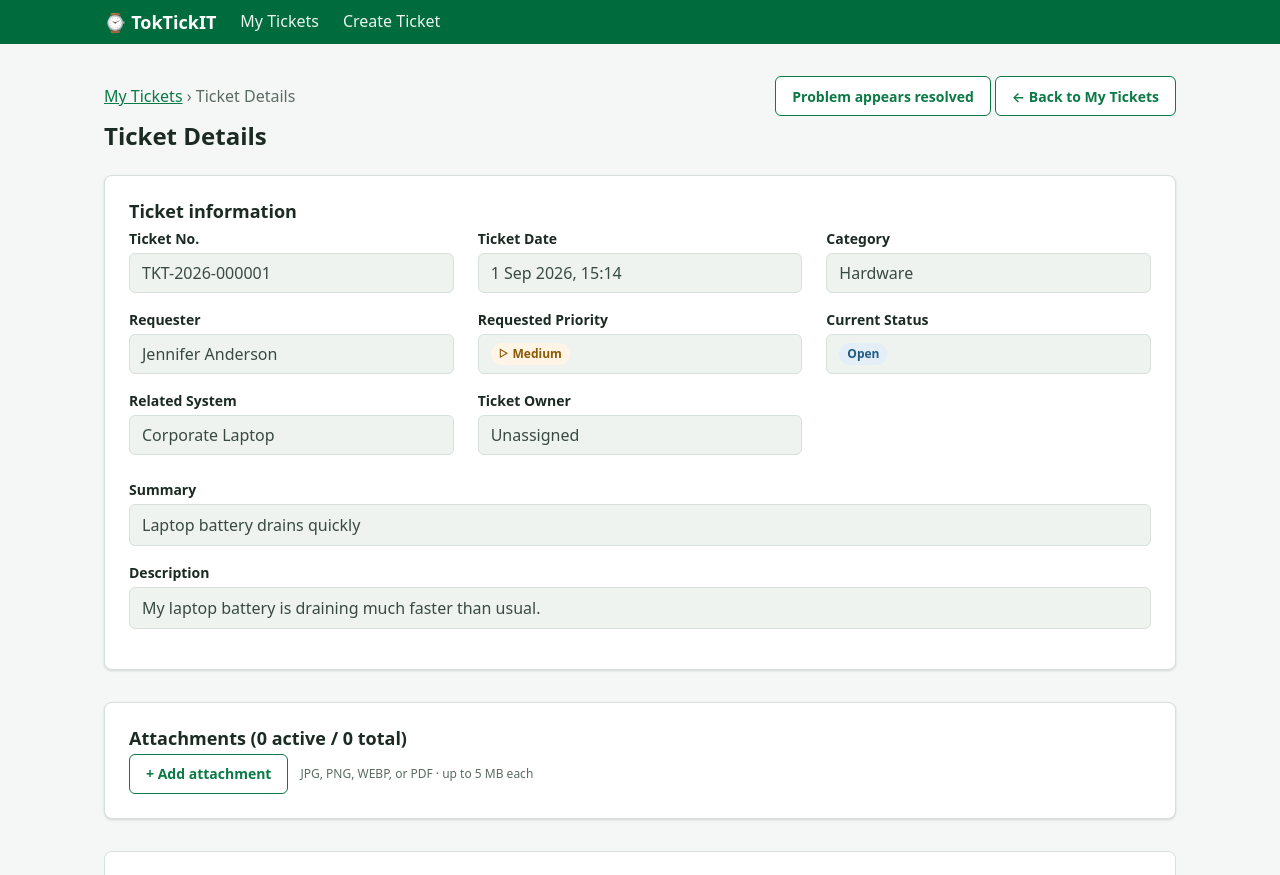
Test case: "Problem Appears Resolved" (ui-spec.md §7) › confirming posts the indication, closes the dialog, and replaces the button with the read-only note — the status badge does not change
The width and height of the screenshot is (1280, 875).
Check: the text "TKT-2026-000001" is shown, box [129,253,454,293]
Click the button "Problem appears resolved". click: x=883, y=96
box: [775,76,991,116]
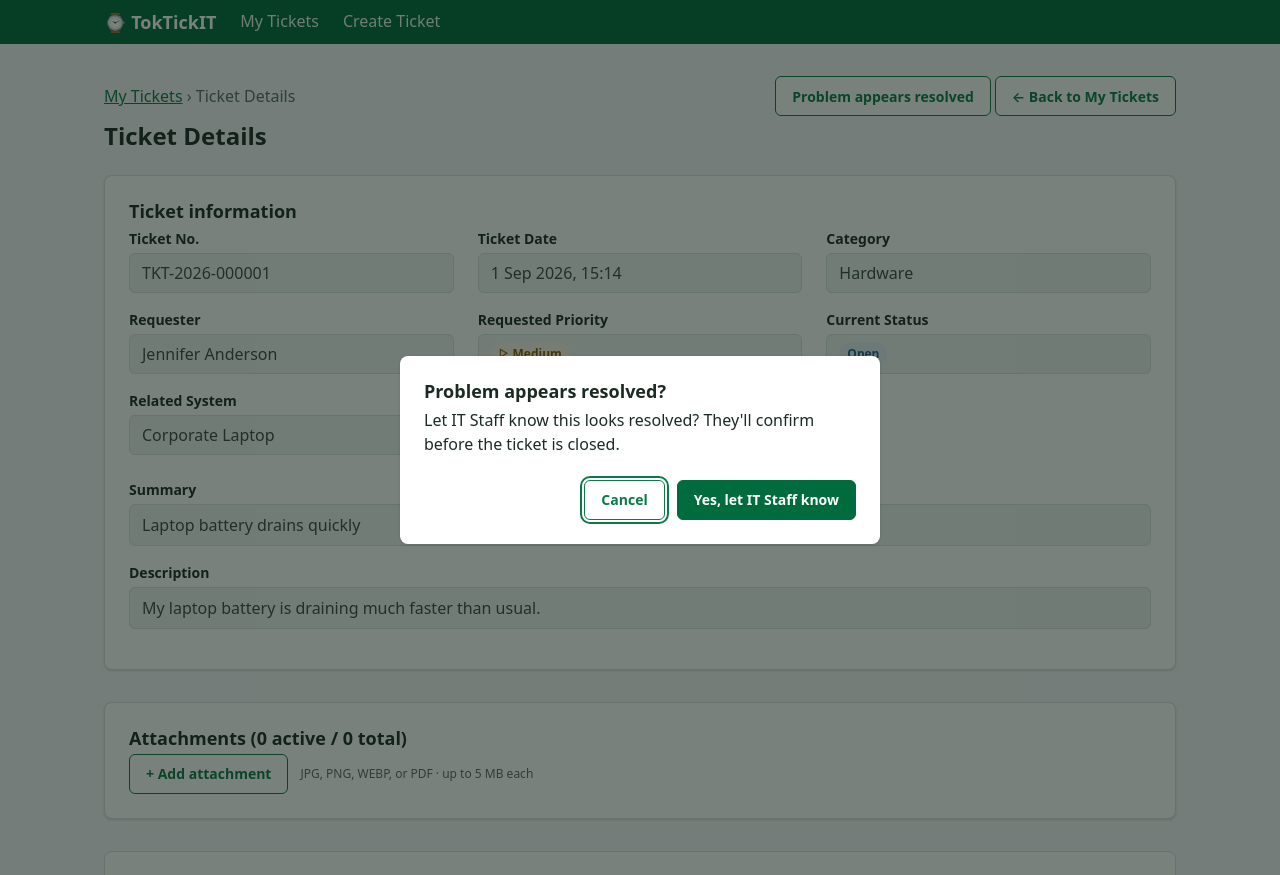
Check: the dialog is shown, box [400,356,880,544]
Click the button "Yes, let IT Staff know". click: x=766, y=500
box: [677,480,856,520]
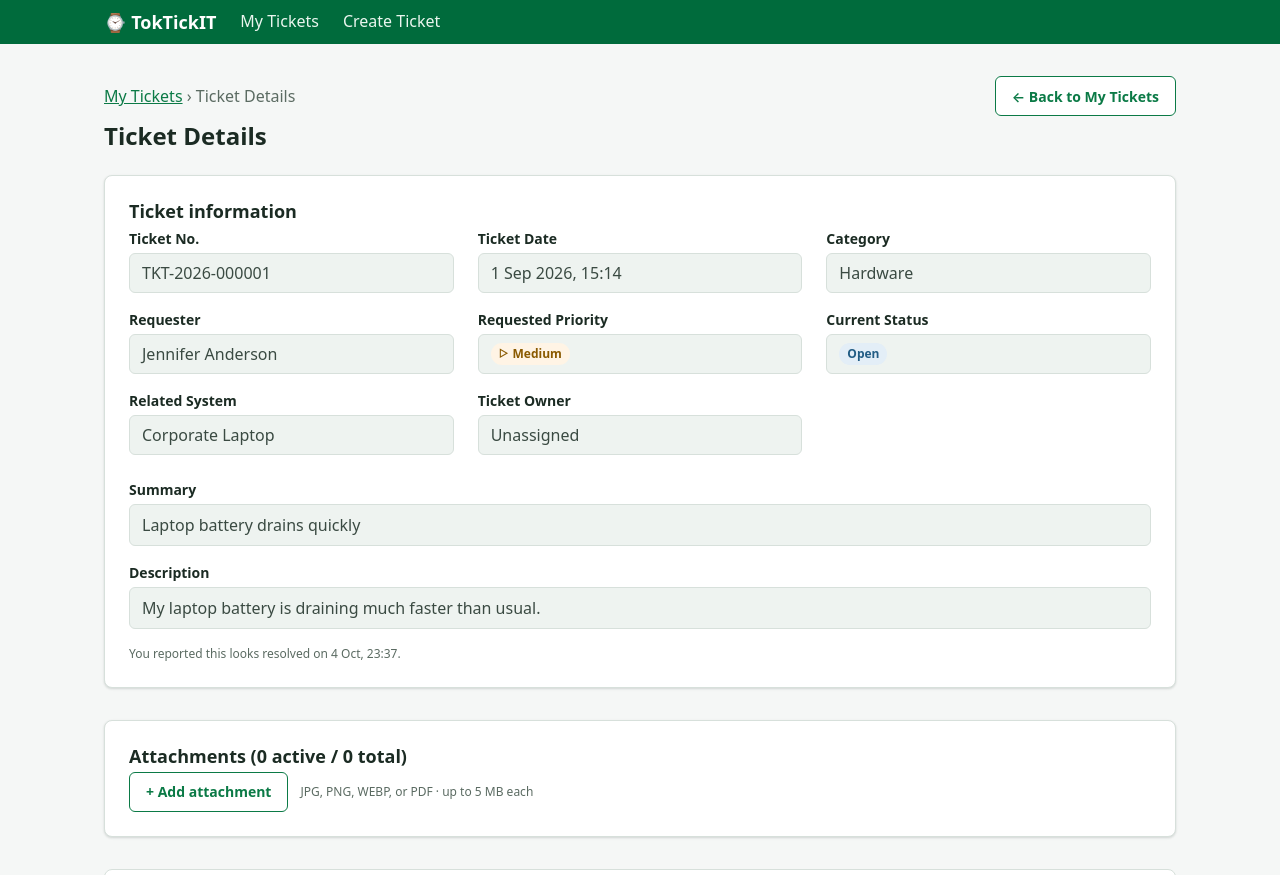
Check: the text "You reported this looks resolved on 4 Oct, 23:37." is shown, box [129,645,401,662]
Check: the dialog is gone
Check: the button "Problem appears resolved" is gone
